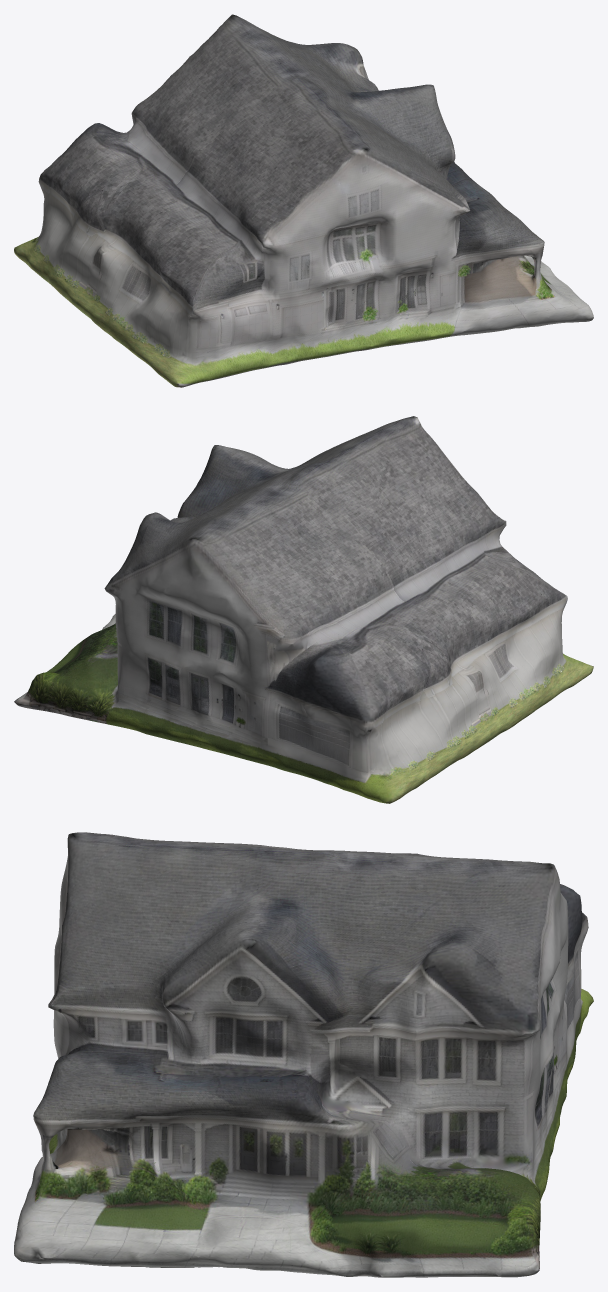
Rendered from Modern_House.glb.
3 views of the same model, one above another, from view 1: azimuth 30°, elevation 25°; view 2: azimuth 150°, elevation 25°; view 3: azimuth 270°, elevation 25° (orthographic). The views are drawn at different scales.
Bounding box in the file's own units: 1.2 × 0.638 × 1.08.
1 material, 1 textured.
